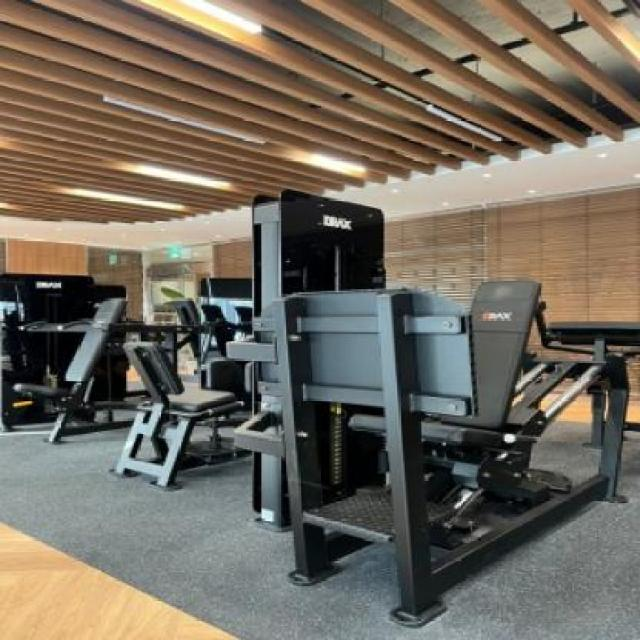leg press: (147, 189, 640, 638)
